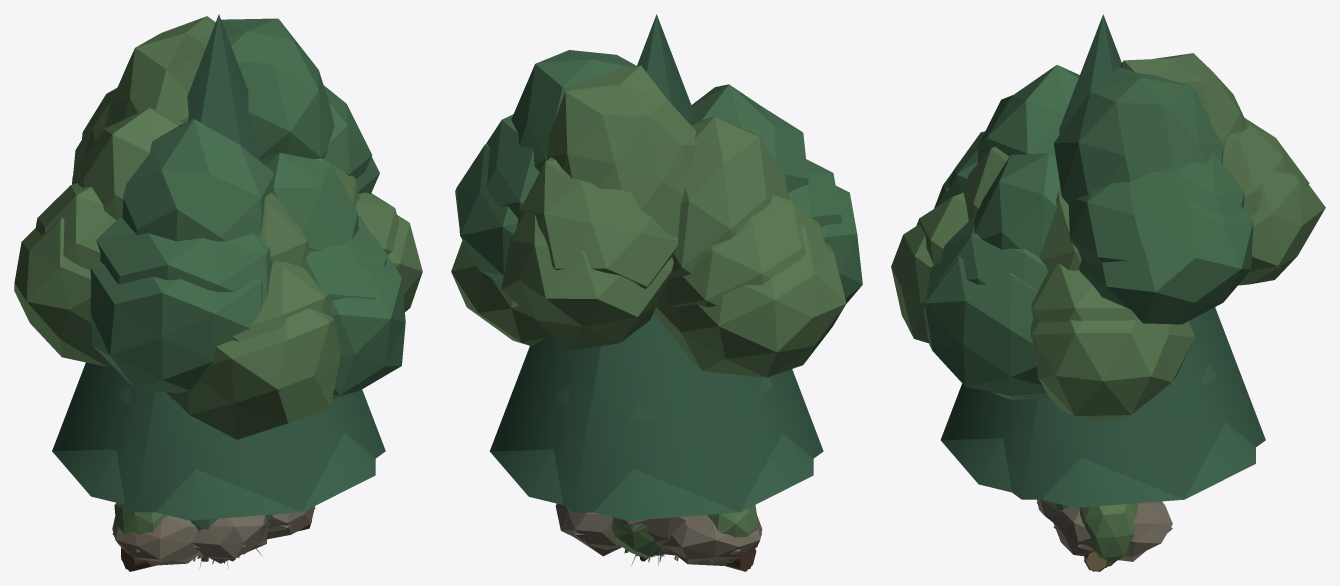
The model's file is landscape.glb.
The picture shows the model from 3 angles, left to right: view 1: azimuth 30°, elevation 25°; view 2: azimuth 150°, elevation 25°; view 3: azimuth 270°, elevation 25°; orthographic projection. The views are drawn at different scales.
Visible parts, largest first — view 1: oak-spreading__normal, beech-upright__normal, pine-tiered__far, birch-open__normal, pine-tiered__normal, outcrop-layered__normal, hedge-fragment__normal, outcrop-layered__low; view 2: pine-tiered__far, oak-spreading__normal, beech-upright__normal, birch-open__normal, pine-tiered__normal, outcrop-layered__normal, hedge-fragment__normal, hazel-shrub__normal, boulder-rounded__normal, outcrop-layered__low; view 3: oak-spreading__normal, beech-upright__normal, pine-tiered__far, birch-open__normal, pine-tiered__normal, outcrop-layered__normal, hedge-fragment__normal.
Boxes of the visible parts, x1,y1,x2,y2 form: oak-spreading__normal: (14, 140, 422, 439); beech-upright__normal: (72, 16, 359, 267); pine-tiered__far: (52, 14, 385, 512); birch-open__normal: (35, 85, 398, 341); pine-tiered__normal: (52, 387, 375, 520); outcrop-layered__normal: (112, 506, 314, 562); hedge-fragment__normal: (114, 503, 167, 552); outcrop-layered__low: (112, 508, 315, 565); pine-tiered__far: (490, 14, 823, 512); oak-spreading__normal: (451, 143, 862, 377); beech-upright__normal: (511, 50, 808, 278); birch-open__normal: (486, 114, 841, 307); pine-tiered__normal: (490, 377, 813, 520); outcrop-layered__normal: (555, 503, 762, 563); hedge-fragment__normal: (707, 505, 757, 563); hazel-shrub__normal: (612, 517, 661, 557); boulder-rounded__normal: (623, 516, 689, 552); outcrop-layered__low: (573, 532, 761, 566); oak-spreading__normal: (891, 170, 1325, 422); beech-upright__normal: (962, 53, 1247, 271); pine-tiered__far: (940, 14, 1265, 499); birch-open__normal: (916, 118, 1309, 331); pine-tiered__normal: (941, 363, 1255, 507); outcrop-layered__normal: (1037, 499, 1172, 556); hedge-fragment__normal: (1079, 503, 1137, 565).
Size of the model in its own units: 7.87 by 10.51 by 7.95.
